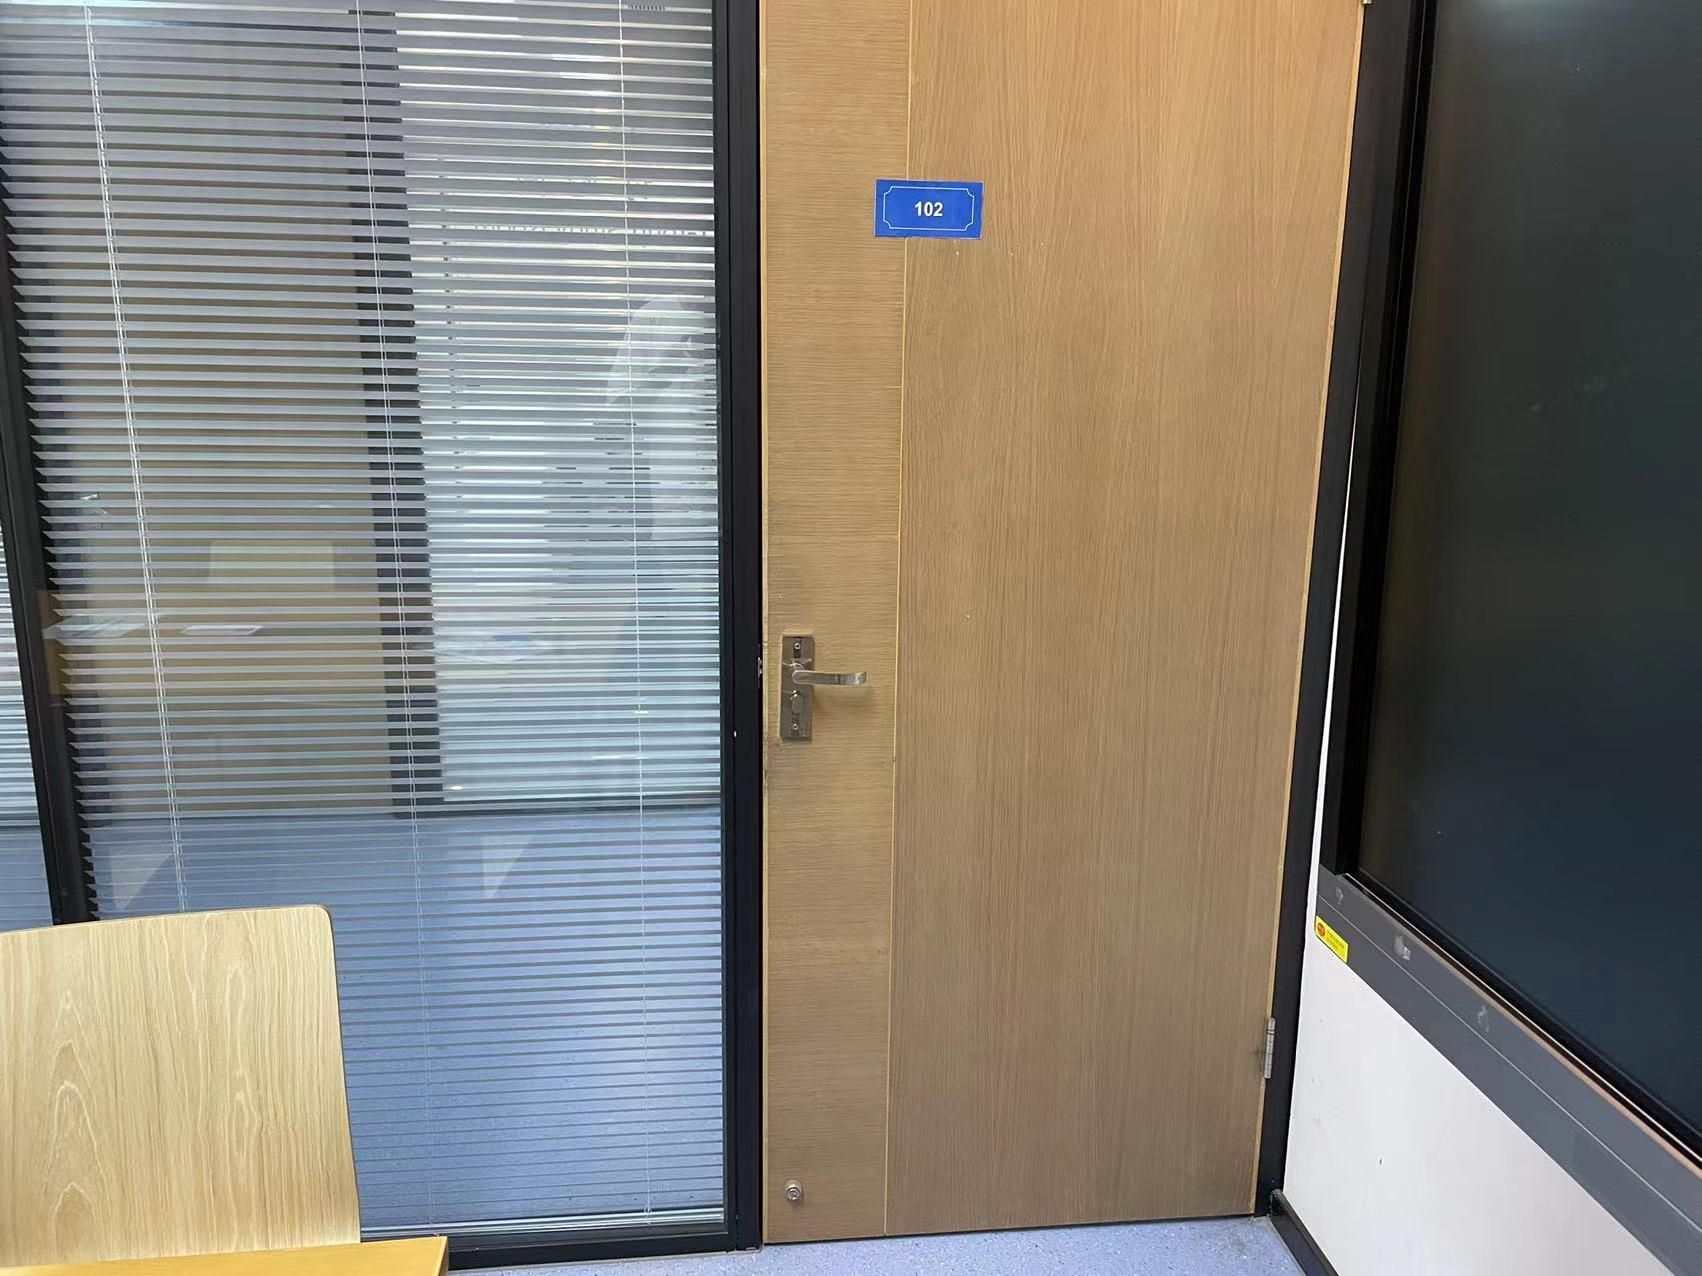Card: (863, 166, 986, 244)
